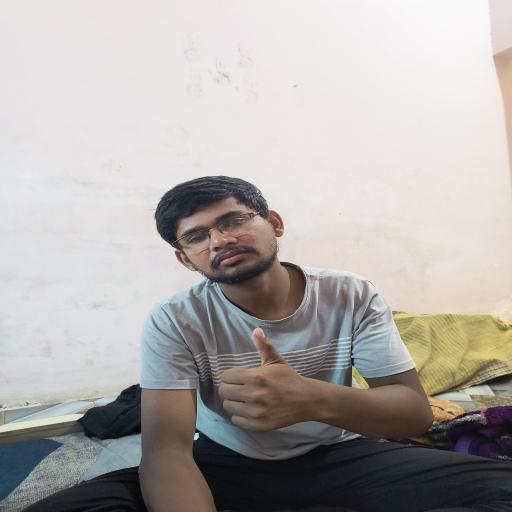Good Morning: (196, 319, 341, 449)
